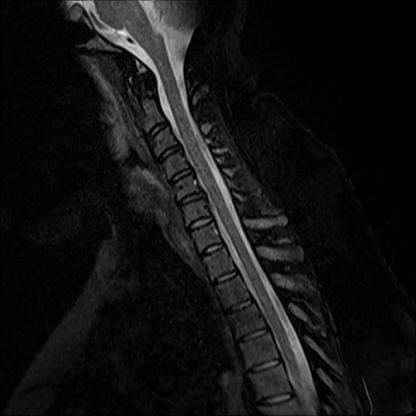Annular Disc Relaxationrotation: (176, 193, 209, 208), (167, 170, 197, 184)
